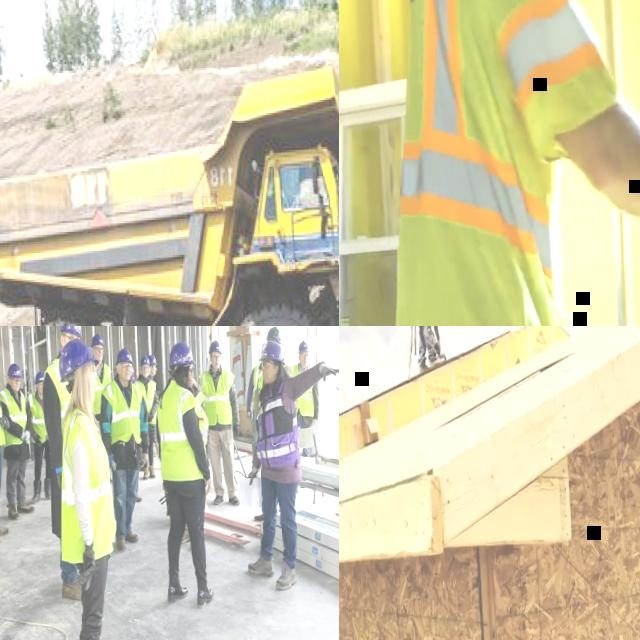Hardhat: (57, 337, 99, 383), (167, 339, 196, 365), (258, 340, 286, 364), (114, 347, 134, 365), (58, 326, 83, 338), (265, 326, 281, 344), (6, 362, 22, 378), (89, 332, 104, 348), (208, 340, 223, 355), (297, 340, 311, 353), (32, 370, 44, 385), (139, 354, 150, 366), (148, 354, 158, 366), (260, 339, 267, 349), (130, 365, 134, 376), (21, 367, 28, 373)
NO-Mask: (262, 370, 275, 382), (120, 370, 131, 380), (92, 384, 97, 402), (211, 360, 220, 369), (300, 359, 308, 367), (94, 352, 102, 360), (12, 384, 20, 392), (188, 374, 192, 387), (141, 370, 148, 376), (37, 387, 43, 394), (151, 369, 156, 375)
Person: (391, 0, 640, 326), (240, 338, 339, 590), (53, 333, 124, 640), (153, 338, 215, 610), (39, 326, 91, 600), (96, 344, 152, 552), (197, 338, 243, 506), (0, 361, 34, 520), (247, 326, 295, 418), (288, 338, 321, 457), (24, 368, 52, 504), (132, 354, 160, 482), (243, 338, 271, 457), (0, 349, 14, 543), (89, 331, 115, 429), (143, 354, 162, 469), (408, 326, 450, 372), (263, 177, 294, 221), (18, 367, 30, 394)
Safety Vest: (378, 0, 629, 326), (56, 404, 117, 561), (156, 378, 210, 481), (252, 375, 301, 468), (100, 377, 144, 443), (43, 354, 75, 438), (198, 366, 237, 426), (0, 385, 29, 446), (258, 364, 294, 408), (289, 362, 315, 414), (25, 391, 48, 444), (133, 378, 158, 424), (91, 362, 113, 414), (249, 362, 263, 419), (267, 187, 292, 210), (151, 378, 157, 414), (194, 390, 206, 405), (23, 377, 32, 395)
machinery: (0, 59, 339, 326)
